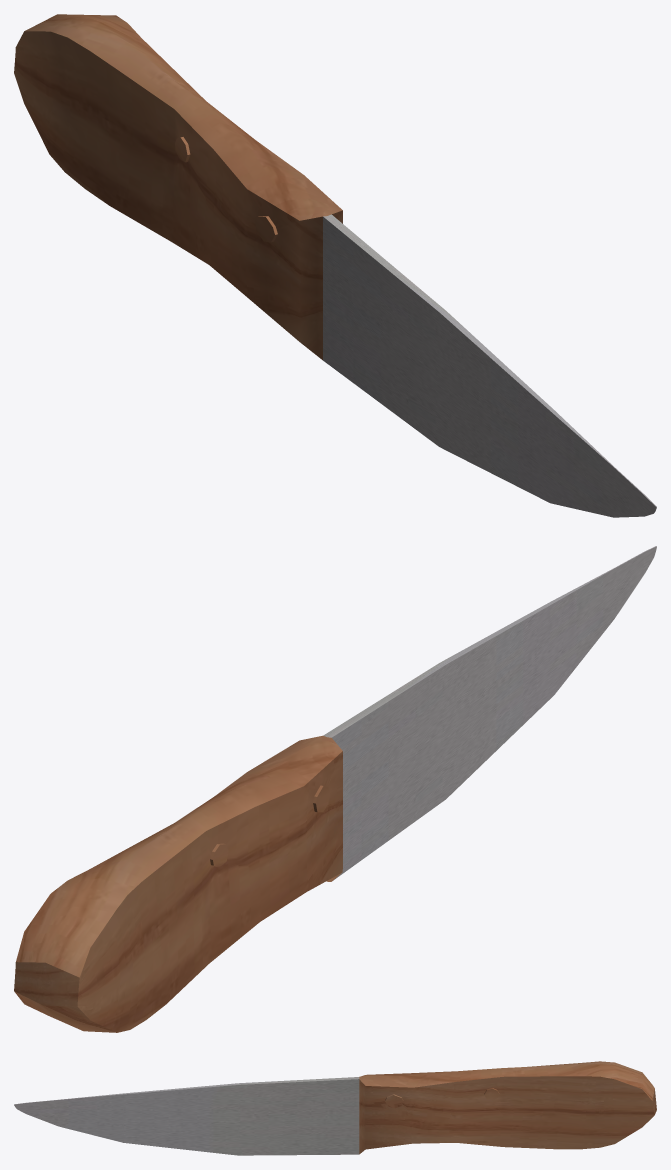
Rendered from Klein mesje.fbx.
The picture shows the model from 3 angles, top to bottom: view 1: azimuth 30°, elevation 25°; view 2: azimuth 150°, elevation 25°; view 3: azimuth 270°, elevation 25°; orthographic projection. The views are drawn at different scales.
Parts seen in each view (by area): view 1: Klein_mesje; view 2: Klein_mesje; view 3: Klein_mesje.
Part boxes in pixels (x1,y1,x2,y2): Klein_mesje: (14,14,656,517); Klein_mesje: (14,546,656,1032); Klein_mesje: (14,1061,656,1155).
Size of the model in its own units: 1.17 by 2.81 by 18.18.
1 material, 1 textured.
